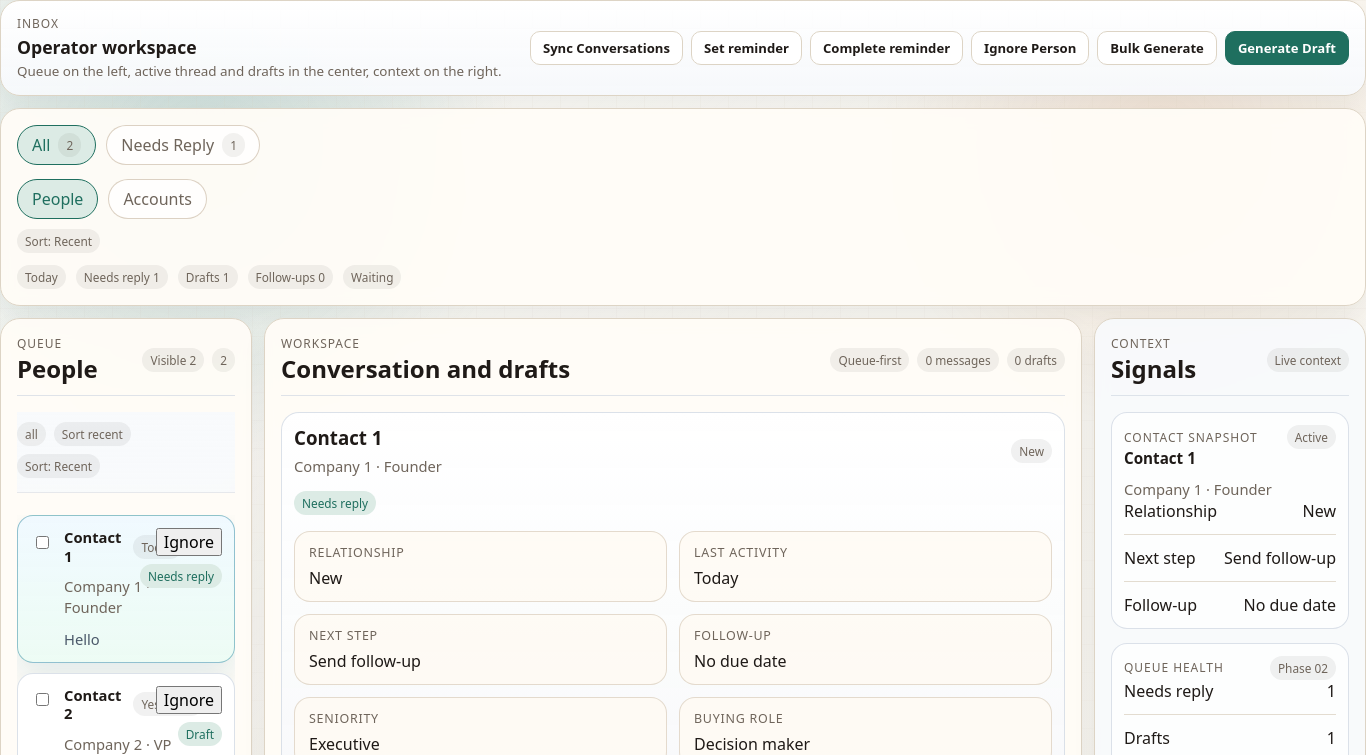
Scenario: InboxWorkspace bulk draft flow › moves a queued manual sync to completed when the worker reports a succeeded sync run
Step 1. Click the button "Sync Conversations" → click(606, 48), box [530,31,683,65]
(page scrolled)
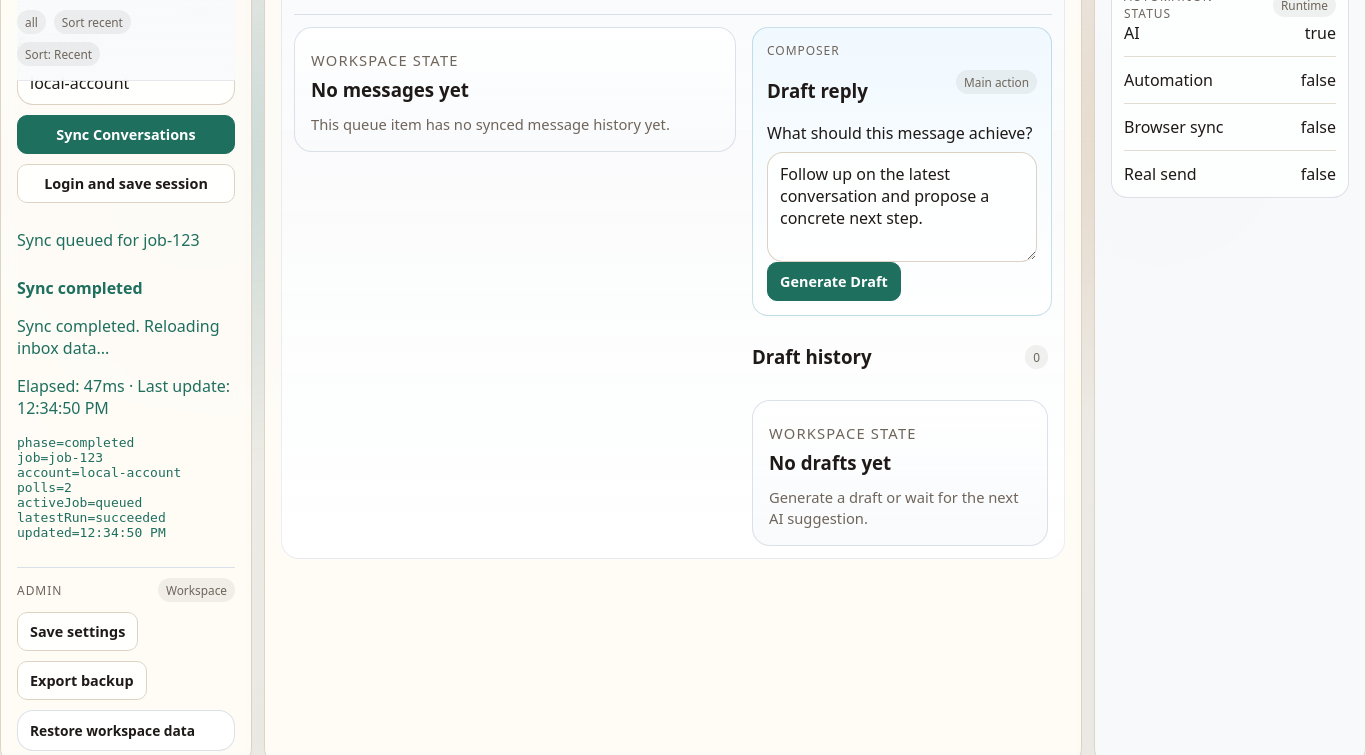
Expected: the text "Sync queued for job-123" is shown, [17,229,200,251]
Expected: the text "Sync completed" is shown, [17,277,143,299]
Expected: the text "Sync completed. Reloading inbox data..." is shown, [17,315,235,359]
